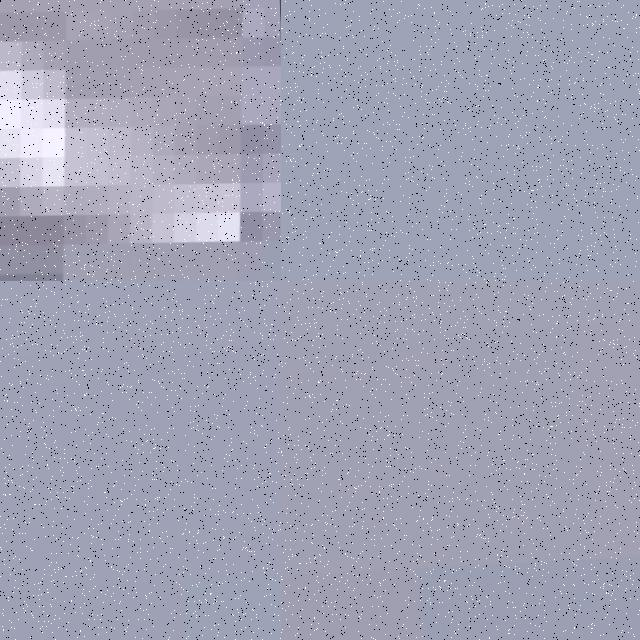drone: (0, 0, 281, 281)
